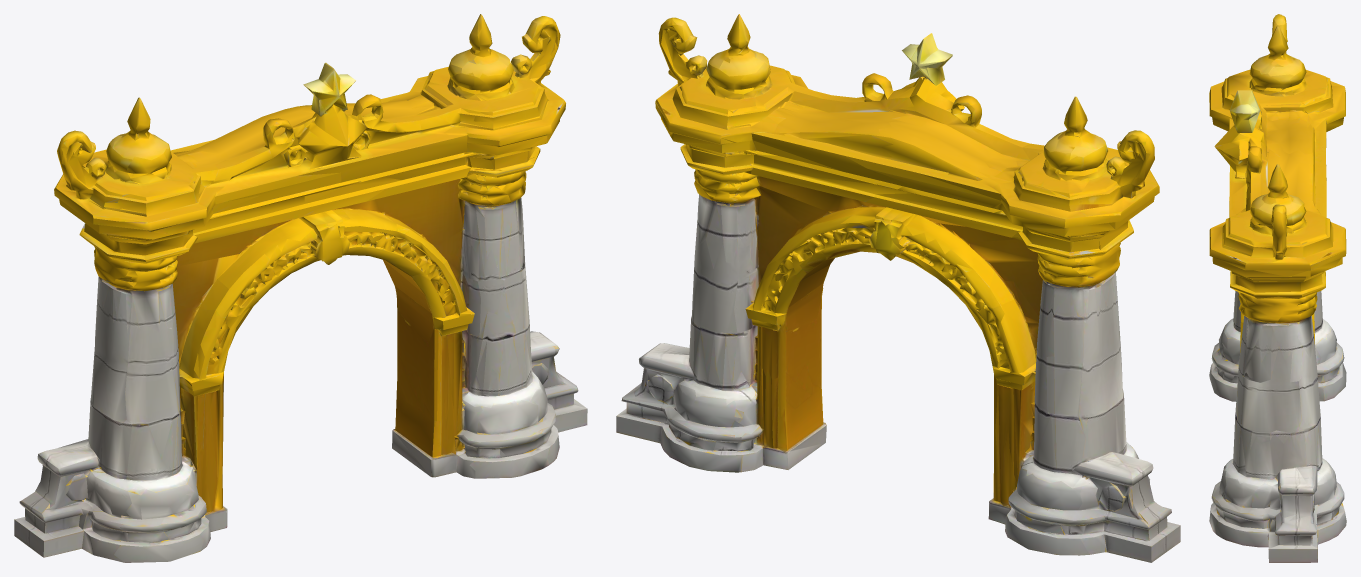
Rendered from archgate.glb.
3 views of the same model, side by side, from view 1: azimuth 30°, elevation 25°; view 2: azimuth 150°, elevation 25°; view 3: azimuth 270°, elevation 25° (orthographic). The views are drawn at different scales.
Bounding box in the file's own units: 1.9 × 1.46 × 0.501.
1 material, 1 textured.
